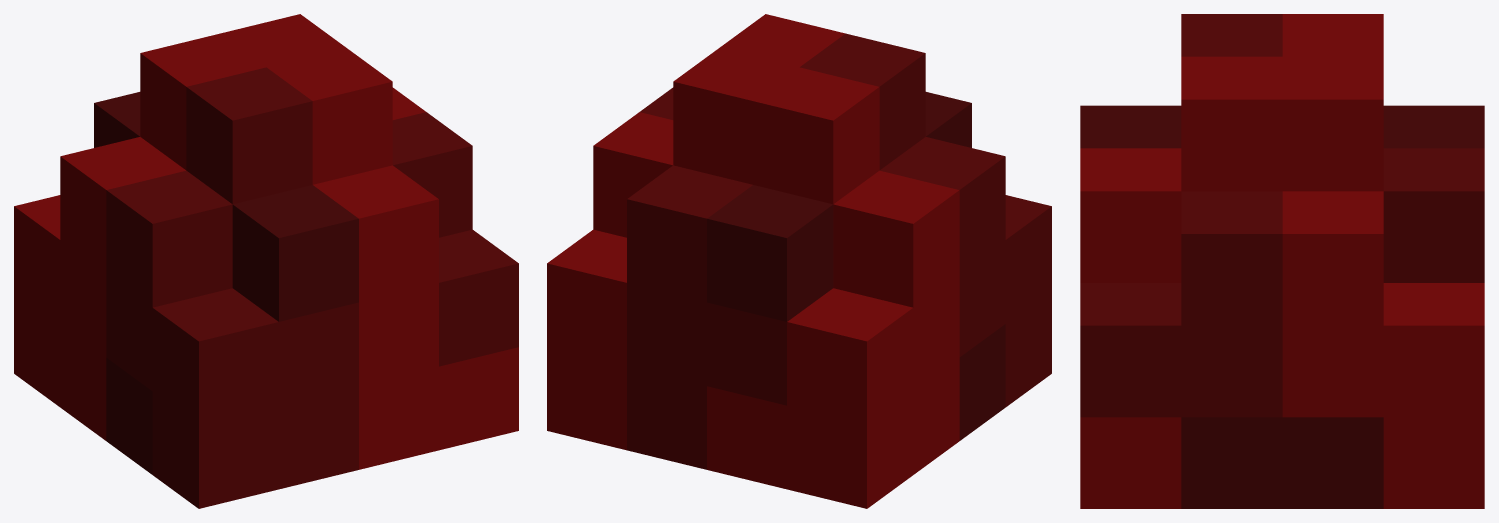
The model's file is item_dirt.fbx.
3 renders of one model, left to right at view 1: azimuth 30°, elevation 25°; view 2: azimuth 150°, elevation 25°; view 3: azimuth 270°, elevation 25°, orthographic. The views are drawn at different scales.
Parts seen in each view (by area): view 1: item_dirt; view 2: item_dirt; view 3: item_dirt.
Boxes of the visible parts, box(x1,y1,x2,y2) form: item_dirt: box(14, 14, 518, 508); item_dirt: box(547, 14, 1051, 508); item_dirt: box(1080, 14, 1484, 508).
Bounding box in the file's own units: 40 × 40 × 40.
